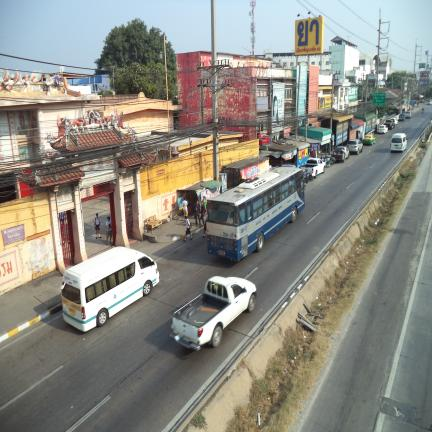bus: (207, 166, 304, 261)
car: (332, 146, 350, 162), (347, 139, 363, 155), (377, 124, 388, 134)
human: (184, 216, 193, 242), (193, 200, 201, 227), (105, 216, 112, 245), (94, 213, 101, 239), (201, 196, 207, 224), (203, 209, 207, 237), (182, 198, 188, 216)
pickup: (170, 276, 256, 350), (303, 158, 326, 178)
taxi: (363, 133, 376, 145)
van: (62, 247, 159, 332), (390, 133, 406, 152)
